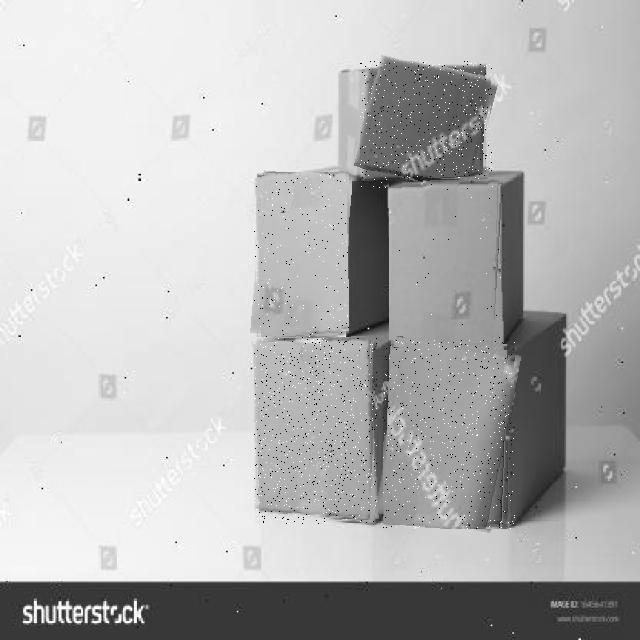BoxFace: (383, 340, 515, 529), (254, 338, 377, 524), (389, 179, 503, 350), (360, 61, 492, 188), (254, 172, 349, 339)
